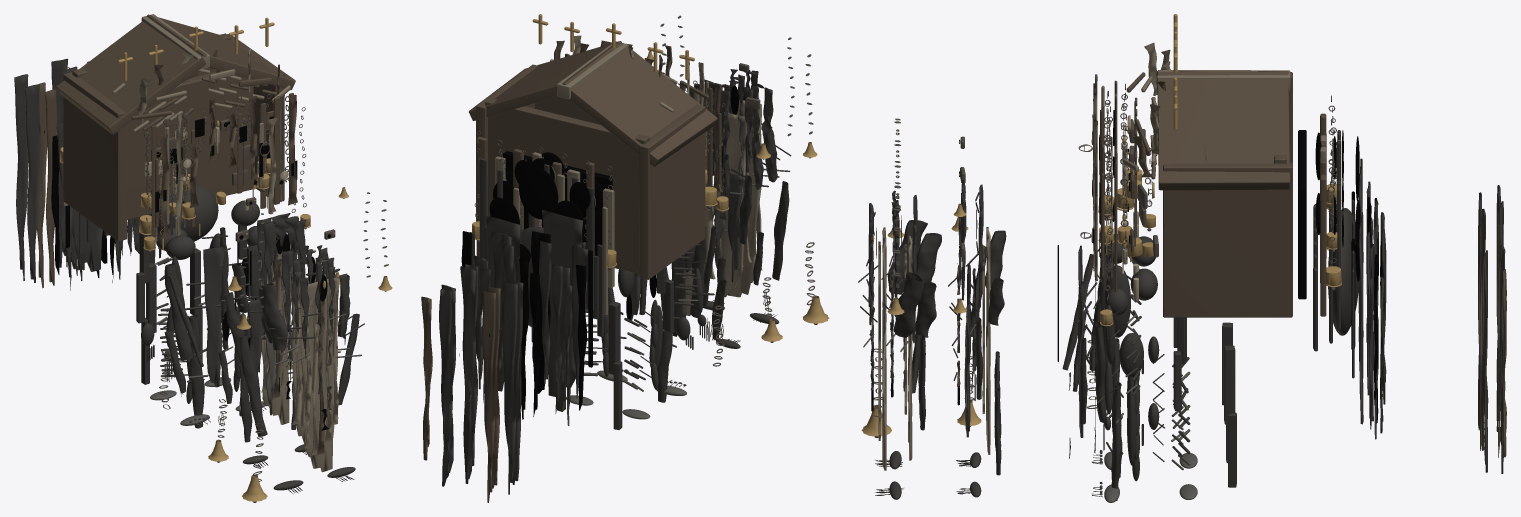
File: penance_carrier_end_goal_v21_multi_region_reference_baseline.glb
3 views of the same model, side by side, from view 1: azimuth 30°, elevation 25°; view 2: azimuth 150°, elevation 25°; view 3: azimuth 270°, elevation 25° (orthographic). The views are drawn at different scales.
Parts seen in each view (by area): view 1: PC_V4_shrine_front_rotten_wall, PC_V4_shrine_left_side_wall, PC_V4_roof_left_steep_slab, PC_V21_front_ortho_long_door_mask_primary, PC_V4_roof_right_steep_slab, PC_V18_back_rotten_hanging_tongue_00, PC_V11_left_torn_front_cloak_sheet, PC_V21_back_drapery_reference_tongue_00, PC_V4_hunched_upper_back_mass, PC_V18_back_rotten_hanging_tongue_01, PC_V4_shrine_right_side_wall, PC_V21_back_drapery_reference_tongue_01 (+44 smaller); view 2: PC_V4_shrine_rear_rotten_wall, PC_V4_shrine_left_side_wall, PC_V4_roof_left_steep_slab, PC_V4_roof_right_steep_slab, PC_V11_back_rotten_skin_sheet_left, PC_V21_back_drapery_reference_tongue_00, PC_V21_back_drapery_reference_tongue_02, PC_V21_back_drapery_reference_tongue_01, PC_V21_back_drapery_reference_tongue_03, PC_V19_broad_rotten_door_mask_target_read, PC_V11_back_deep_rotted_hole_01, PC_V21_front_ortho_long_door_mask_primary (+48 smaller); view 3: PC_V4_shrine_right_side_wall, PC_V4_roof_right_steep_slab, PC_V11_back_swollen_rotten_under_mass, PC_V4_back_black_rotten_hollow, PC_V21_front_ortho_long_door_mask_primary, PC_V21_right_side_shoulder_back_transition_mass, PC_V15_rotten_wood_door_mask_broad_read, PC_V5_back_rotten_vertical_plank_07, PC_V11_back_rotten_skin_sheet_right, PC_V11_5_right_leg_compressed_wrapped_sculpt, PC_V11_5_right_arm_pinched_wrapped_sculpt, PC_V19_left_hunched_shoulder_pressing_door (+11 smaller).
Part boxes in pixels (box(x1,y1,x2,y2)): PC_V4_shrine_front_rotten_wall: box(127, 70, 253, 219); PC_V4_shrine_left_side_wall: box(63, 72, 126, 241); PC_V4_roof_left_steep_slab: box(56, 21, 206, 134); PC_V21_front_ortho_long_door_mask_primary: box(300, 276, 339, 472); PC_V4_roof_right_steep_slab: box(147, 14, 295, 90); PC_V18_back_rotten_hanging_tongue_00: box(24, 84, 40, 282); PC_V11_left_torn_front_cloak_sheet: box(203, 245, 224, 387); PC_V21_back_drapery_reference_tongue_00: box(14, 74, 28, 280); PC_V4_hunched_upper_back_mass: box(149, 186, 218, 241); PC_V18_back_rotten_hanging_tongue_01: box(45, 89, 57, 285); PC_V4_shrine_right_side_wall: box(227, 34, 284, 201); PC_V21_back_drapery_reference_tongue_01: box(37, 82, 47, 288); PC_V4_shrine_rear_rotten_wall: box(485, 98, 649, 273); PC_V4_shrine_left_side_wall: box(639, 104, 705, 279); PC_V4_roof_left_steep_slab: box(569, 43, 717, 166); PC_V4_roof_right_steep_slab: box(469, 41, 621, 120); PC_V11_back_rotten_skin_sheet_left: box(542, 210, 583, 396); PC_V21_back_drapery_reference_tongue_00: box(502, 281, 517, 494); PC_V21_back_drapery_reference_tongue_02: box(460, 266, 476, 483); PC_V21_back_drapery_reference_tongue_01: box(482, 291, 495, 502); PC_V21_back_drapery_reference_tongue_03: box(439, 289, 452, 486); PC_V19_broad_rotten_door_mask_target_read: box(713, 112, 746, 297); PC_V11_back_deep_rotted_hole_01: box(519, 167, 558, 219); PC_V21_front_ortho_long_door_mask_primary: box(727, 99, 761, 297); PC_V4_shrine_right_side_wall: box(1163, 162, 1292, 317); PC_V4_roof_right_steep_slab: box(1157, 71, 1289, 190); PC_V11_back_swollen_rotten_under_mass: box(1328, 208, 1359, 335); PC_V4_back_black_rotten_hollow: box(1298, 130, 1306, 299); PC_V21_front_ortho_long_door_mask_primary: box(882, 227, 886, 470); PC_V21_right_side_shoulder_back_transition_mass: box(893, 272, 923, 337); PC_V15_rotten_wood_door_mask_broad_read: box(986, 227, 990, 454); PC_V5_back_rotten_vertical_plank_07: box(1320, 174, 1326, 316); PC_V11_back_rotten_skin_sheet_right: box(1359, 214, 1363, 424); PC_V11_5_right_leg_compressed_wrapped_sculpt: box(1111, 382, 1121, 500); PC_V11_5_right_arm_pinched_wrapped_sculpt: box(1094, 322, 1106, 422); PC_V19_left_hunched_shoulder_pressing_door: box(916, 233, 941, 284).
Size of the model in its own units: 2.33 by 4.48 by 5.93.
